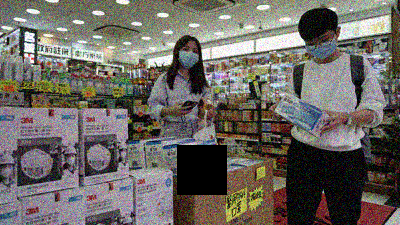with_mask: (305, 32, 338, 60), (177, 46, 200, 70)
